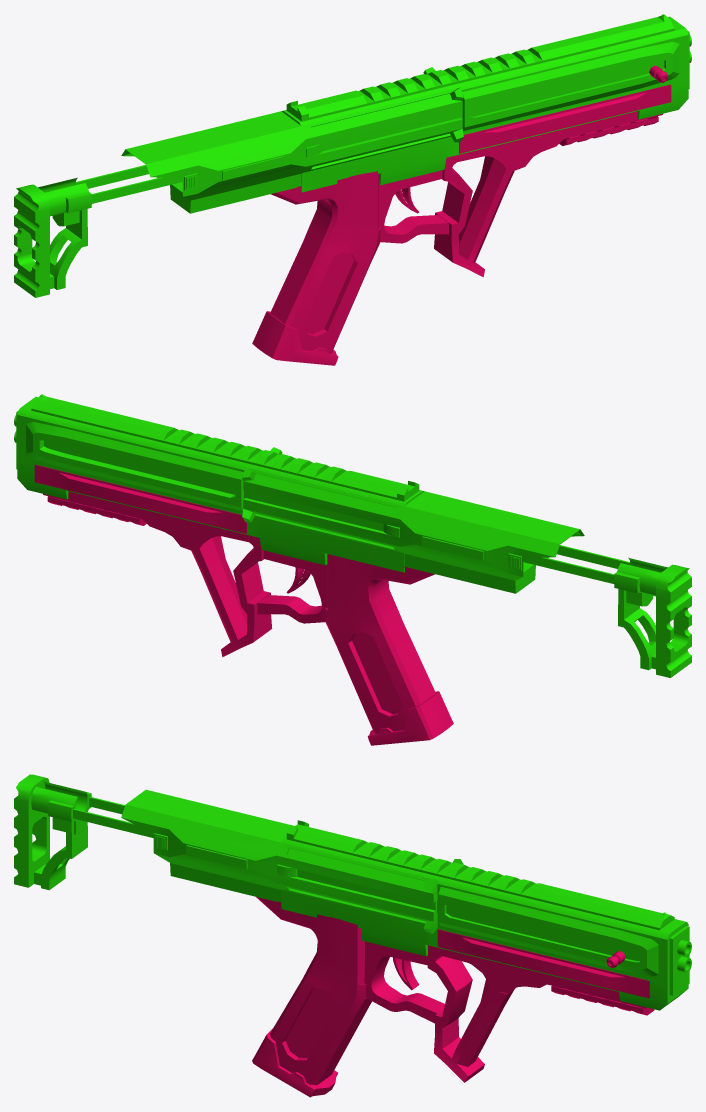
Rendered from autoweapon.fbx.
The picture shows the model from 3 angles, top to bottom: view 1: azimuth 30°, elevation 25°; view 2: azimuth 150°, elevation 25°; view 3: azimuth 330°, elevation 25°; orthographic projection.
Parts seen in each view (by area): view 1: zad koprus, korpus, rukoyat, cev`e, pikatini, priklad, nakladki, zatvor kriska, el cev`e, niz rukoyat, chast priklada, palki (+2 smaller); view 2: zad koprus, korpus, rukoyat, cev`e, pikatini, priklad, nakladki, el cev`e, niz rukoyat, chast priklada, palki, knopki.001 (+1 smaller); view 3: zad koprus, korpus, rukoyat, cev`e, pikatini, priklad, nakladki, el cev`e, zatvor kriska, chast priklada, niz rukoyat, palki (+2 smaller).
Boxes of the visible parts, x1,y1,x2,y2 form: zad koprus: (121, 67, 463, 213); korpus: (282, 16, 689, 192); rukoyat: (270, 171, 381, 353); cev`e: (434, 111, 662, 277); pikatini: (286, 14, 674, 121); priklad: (14, 184, 87, 297); nakladki: (459, 84, 671, 153); zatvor kriska: (460, 60, 664, 118); el cev`e: (379, 170, 448, 243); niz rukoyat: (252, 311, 338, 365); chast priklada: (38, 177, 91, 226); palki: (75, 165, 182, 203); zad koprus: (242, 447, 584, 593); korpus: (16, 397, 423, 572); rukoyat: (324, 554, 435, 733); cev`e: (43, 491, 272, 657); pikatini: (31, 394, 419, 501); priklad: (618, 564, 691, 677); nakladki: (34, 464, 246, 533); el cev`e: (257, 550, 327, 623); niz rukoyat: (367, 691, 453, 745); chast priklada: (614, 557, 667, 606); palki: (523, 545, 630, 583); knopki.001: (383, 524, 521, 570); zad koprus: (121, 789, 463, 933); korpus: (281, 837, 689, 1010); rukoyat: (256, 897, 371, 1085); cev`e: (427, 945, 647, 1082); pikatini: (286, 820, 674, 930); priklad: (14, 774, 87, 890); nakladki: (437, 929, 649, 998); el cev`e: (365, 941, 444, 1023); zatvor kriska: (437, 900, 639, 960); chast priklada: (31, 781, 91, 834); niz rukoyat: (252, 1028, 337, 1097); palki: (73, 797, 153, 837).
Bounding box in the file's own units: 78.55 × 29.5 × 9.34.
